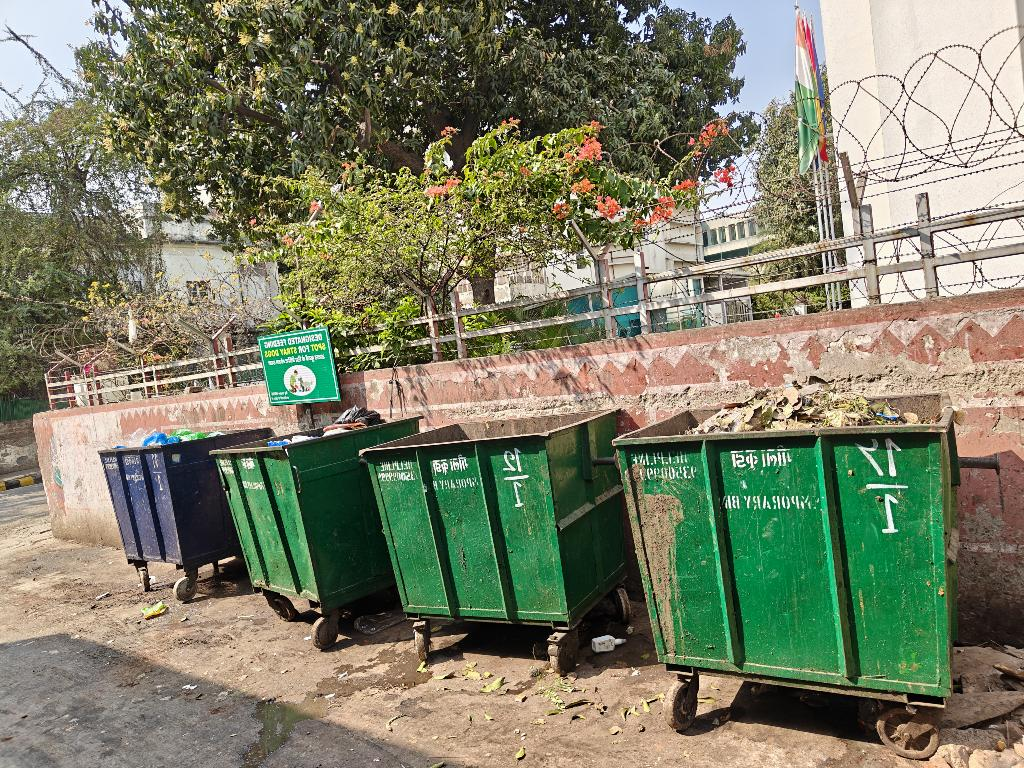dustbin: (601, 379, 967, 749), (356, 404, 625, 687), (203, 413, 425, 649), (95, 424, 273, 608)
